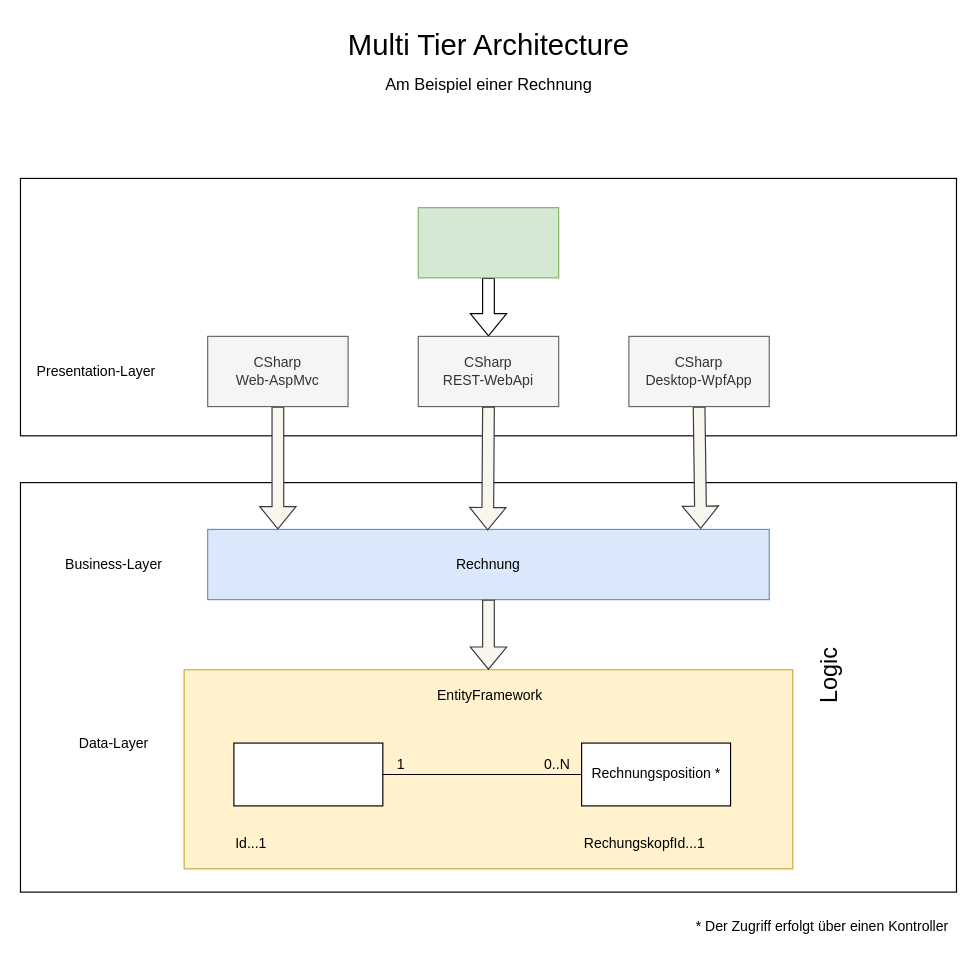
Some shapes in this 977 by 958 pixel diagram are drawn without their labels. The shapes that lost their labels are listed below. From the top down, each one's centre as x and y in pixels, then its label:
At [488,242]: "Mobil-App".
At [308,774]: "Rechnungskopf *".
